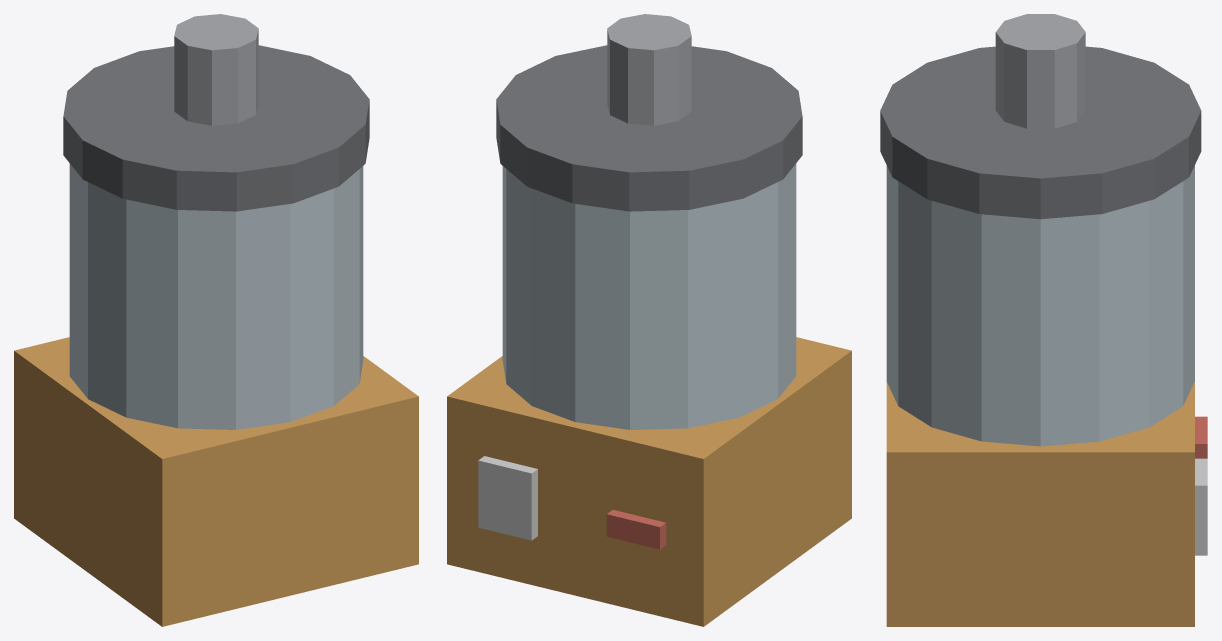
Rendered from eld_processador.glb.
3 views of the same model, side by side, from view 1: azimuth 30°, elevation 25°; view 2: azimuth 150°, elevation 25°; view 3: azimuth 270°, elevation 25° (orthographic). The views are drawn at different scales.
Parts seen in each view (by area): view 1: ELD_PROCESSADOR_v01; view 2: ELD_PROCESSADOR_v01; view 3: ELD_PROCESSADOR_v01.
Boxes of the visible parts, bbox=[...] form: ELD_PROCESSADOR_v01: bbox=[14, 14, 418, 626]; ELD_PROCESSADOR_v01: bbox=[447, 14, 851, 626]; ELD_PROCESSADOR_v01: bbox=[880, 14, 1207, 626].
Bounding box in the file's own units: 0.25 × 0.455 × 0.255.
